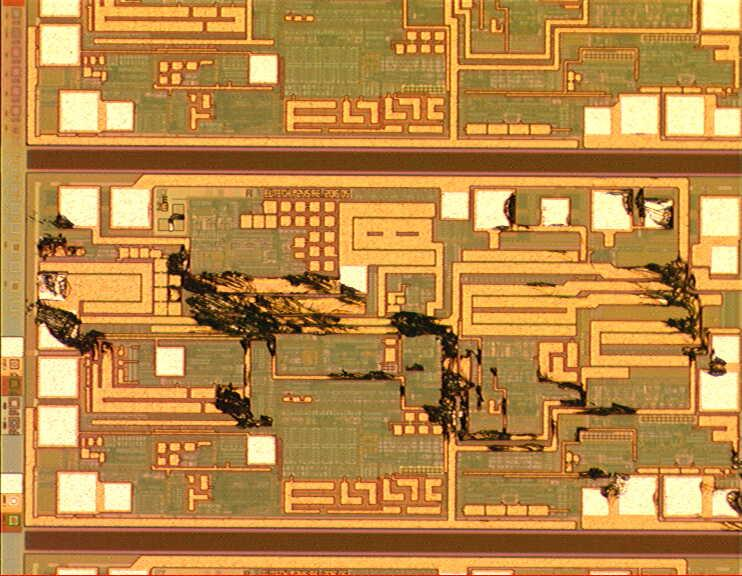SCRATCH: (19, 179, 742, 531)
